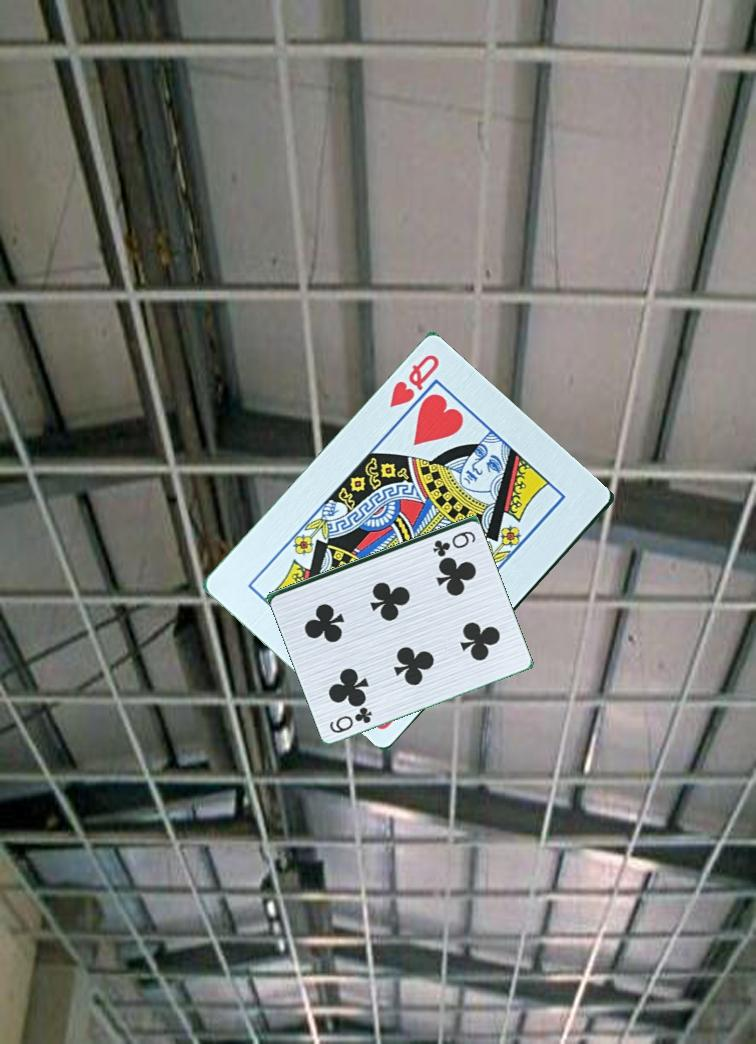6c: (319, 701, 375, 736), (429, 527, 479, 556)
qh: (386, 351, 443, 411)
